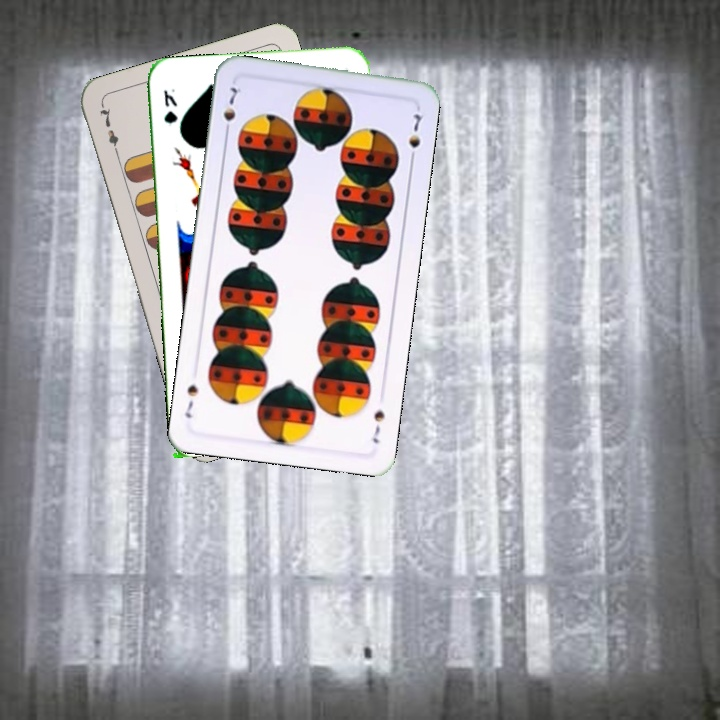E7: (95, 101, 122, 159)
GK: (159, 84, 180, 126)
S7: (219, 83, 244, 139), (368, 406, 387, 446)
